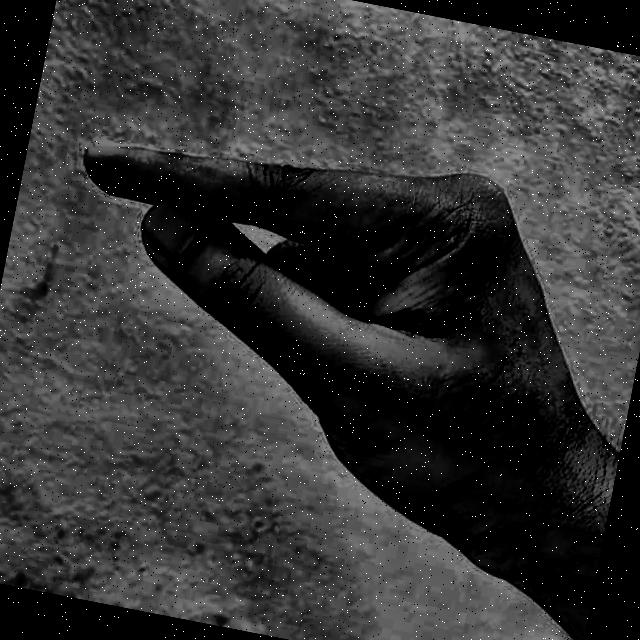Tha: (0, 63, 640, 636)
